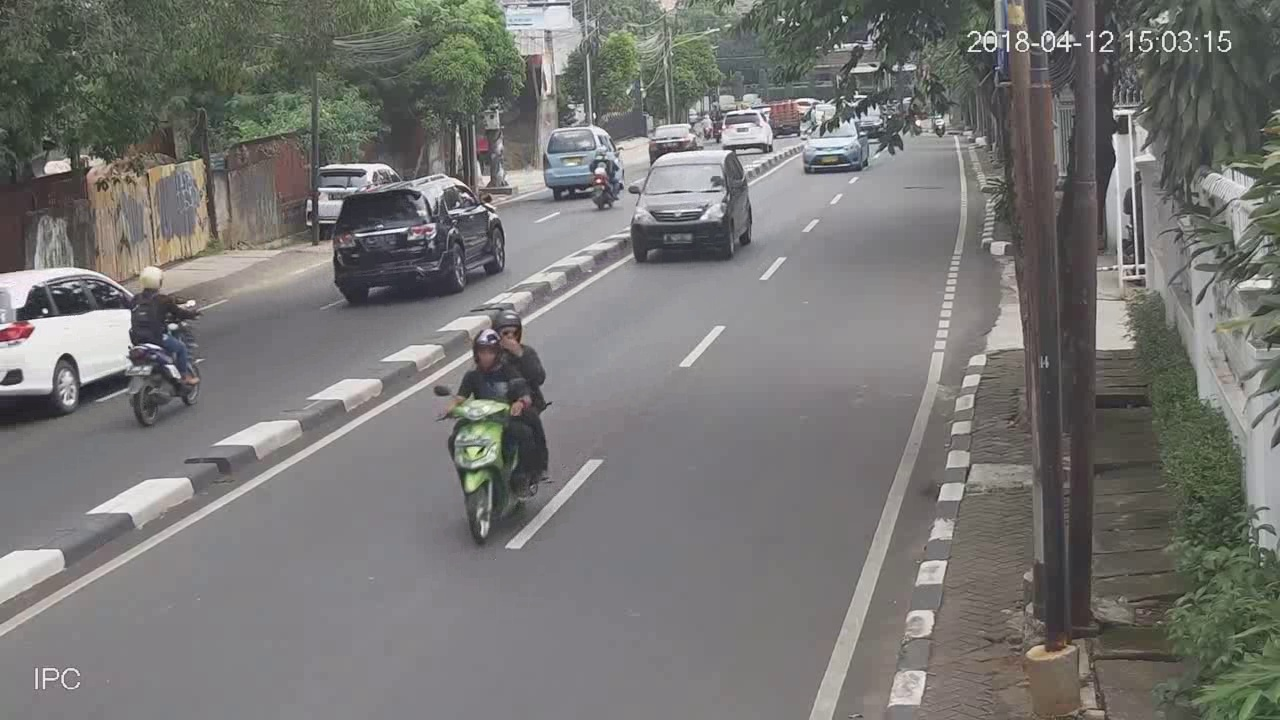car: (328, 172, 508, 304), (629, 146, 750, 264), (543, 122, 619, 198), (803, 119, 875, 172), (719, 110, 774, 153), (649, 122, 699, 161)
motorcycle: (431, 304, 555, 547), (121, 261, 206, 426), (592, 143, 619, 209)
